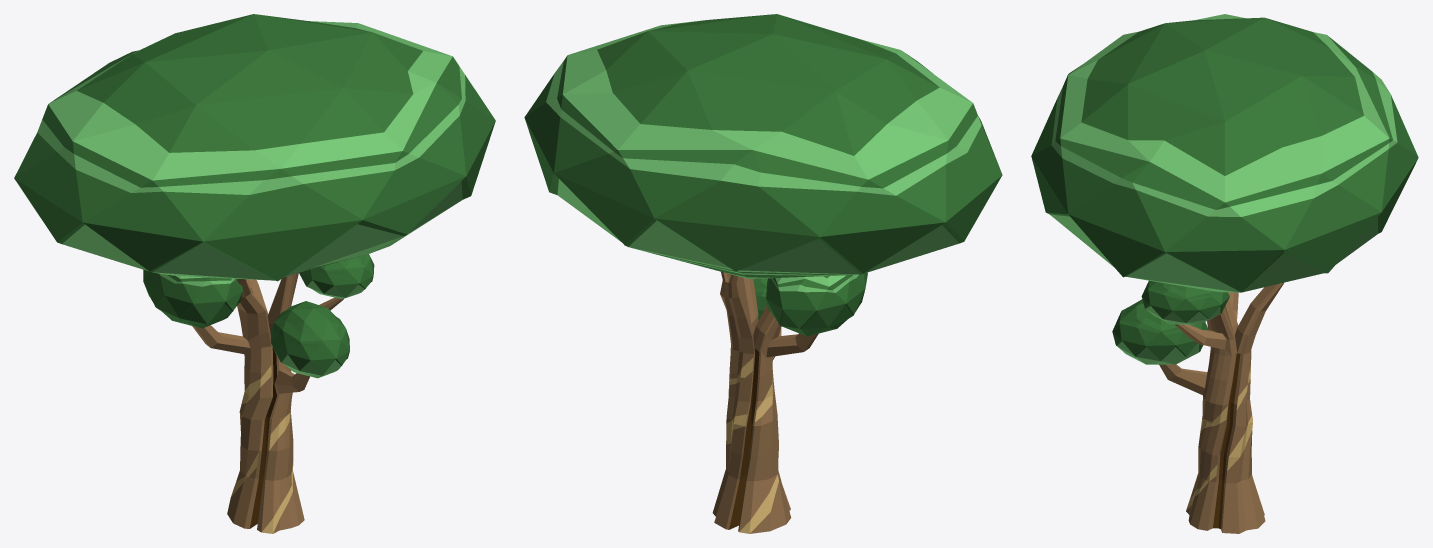
The model's file is tree04.fbx.
3 views of the same model, side by side, from view 1: azimuth 30°, elevation 25°; view 2: azimuth 150°, elevation 25°; view 3: azimuth 270°, elevation 25° (orthographic). The views are drawn at different scales.
Parts seen in each view (by area): view 1: Icosphere, Cylinder, Icosphere.002, Icosphere.001, Icosphere.003; view 2: Icosphere, Cylinder, Icosphere.001; view 3: Icosphere, Cylinder, Icosphere.002, Icosphere.003.
Boxes of the visible parts, bbox=[...] form: Icosphere: bbox=[14, 14, 495, 281]; Cylinder: bbox=[192, 272, 343, 533]; Icosphere.002: bbox=[271, 301, 349, 378]; Icosphere.001: bbox=[143, 269, 242, 328]; Icosphere.003: bbox=[299, 254, 374, 299]; Icosphere: bbox=[524, 14, 1002, 278]; Cylinder: bbox=[712, 272, 818, 533]; Icosphere.001: bbox=[766, 272, 867, 336]; Icosphere: bbox=[1031, 14, 1418, 292]; Cylinder: bbox=[1159, 282, 1283, 533]; Icosphere.002: bbox=[1112, 299, 1208, 364]; Icosphere.003: bbox=[1141, 280, 1229, 324].
Size of the model in its own units: 1806 by 1951 by 1479.
